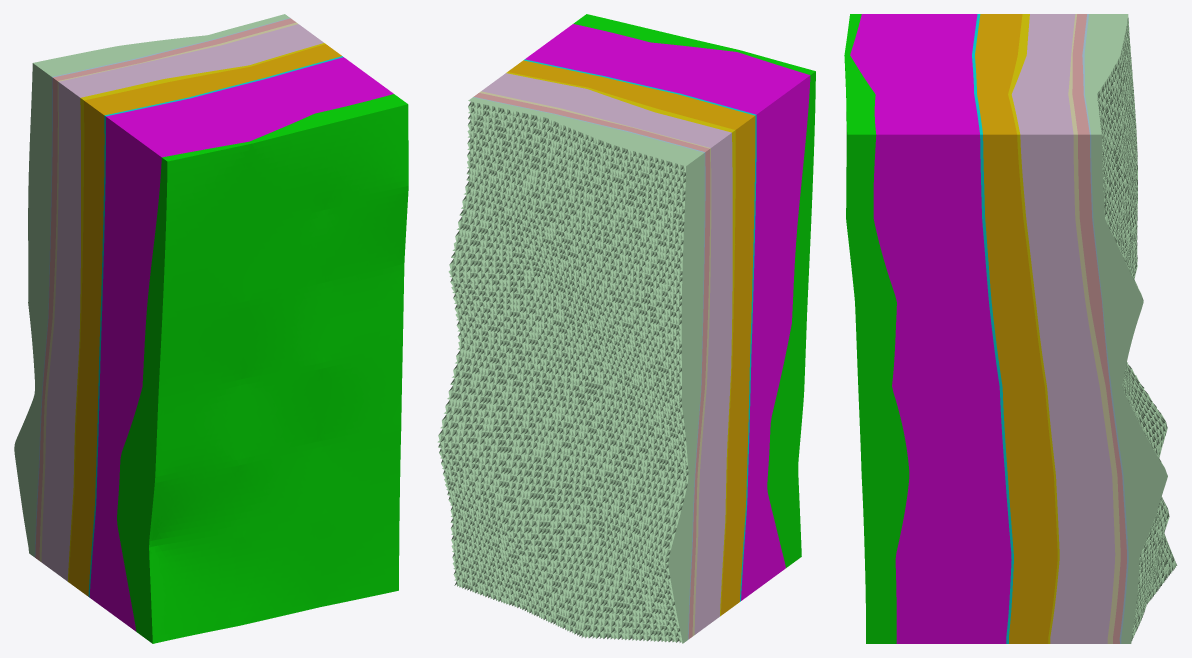
3 views of the same model, side by side, from view 1: azimuth 30°, elevation 25°; view 2: azimuth 150°, elevation 25°; view 3: azimuth 270°, elevation 25° (orthographic). The views are drawn at different scales.
Parts seen in each view (by area): view 1: loose layer, gravel sandstone layer, sandstone_1, Sandstone and mudstone mixed layer, sandstone_3, sandstone_2, coal4-2, coal5-2, coal3-1, coal5-3; view 2: sandstone_3, gravel sandstone layer, sandstone_1, Sandstone and mudstone mixed layer, loose layer, sandstone_2, coal4-2, coal5-2, coal3-1, coal5-3; view 3: gravel sandstone layer, sandstone_1, Sandstone and mudstone mixed layer, sandstone_3, loose layer, sandstone_2, coal5-2, coal4-2, coal3-1, coal5-3.
Part boxes in pixels (left/top/right/bottom): loose layer: left=117, top=94, right=408, bottom=643; gravel sandstone layer: left=89, top=57, right=393, bottom=631; sandstone_1: left=41, top=24, right=323, bottom=581; Sandstone and mudstone mixed layer: left=68, top=44, right=341, bottom=596; sandstone_3: left=14, top=14, right=289, bottom=556; sandstone_2: left=35, top=18, right=295, bottom=560; coal4-2: left=67, top=43, right=325, bottom=581; coal5-2: left=39, top=22, right=297, bottom=562; coal3-1: left=88, top=56, right=343, bottom=597; coal5-3: left=34, top=18, right=290, bottom=557; sandstone_3: left=437, top=97, right=704, bottom=643; gravel sandstone layer: left=525, top=24, right=810, bottom=600; sandstone_1: left=481, top=73, right=732, bottom=634; Sandstone and mudstone mixed layer: left=508, top=60, right=755, bottom=615; loose layer: left=573, top=14, right=815, bottom=567; sandstone_2: left=473, top=93, right=710, bottom=638; coal4-2: left=506, top=72, right=735, bottom=616; coal5-2: left=479, top=91, right=711, bottom=636; coal3-1: left=524, top=59, right=756, bottom=601; coal5-3: left=473, top=97, right=705, bottom=639; gravel sandstone layer: left=850, top=14, right=1011, bottom=643; sandstone_1: left=1011, top=14, right=1115, bottom=643; Sandstone and mudstone mixed layer: left=975, top=14, right=1057, bottom=643; sandstone_3: left=1084, top=14, right=1177, bottom=643; loose layer: left=844, top=14, right=909, bottom=643; sandstone_2: left=1072, top=14, right=1126, bottom=643; coal5-2: left=1068, top=14, right=1120, bottom=643; coal4-2: left=1008, top=14, right=1059, bottom=643; coal3-1: left=972, top=14, right=1013, bottom=643; coal5-3: left=1082, top=14, right=1128, bottom=643.
Size of the model in its own units: 3053 by 6011 by 3563.
